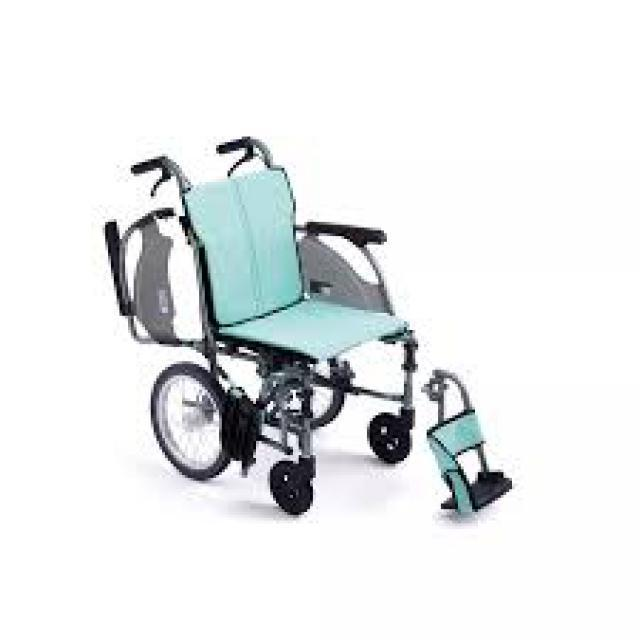wheelchairs: (121, 136, 509, 524)
